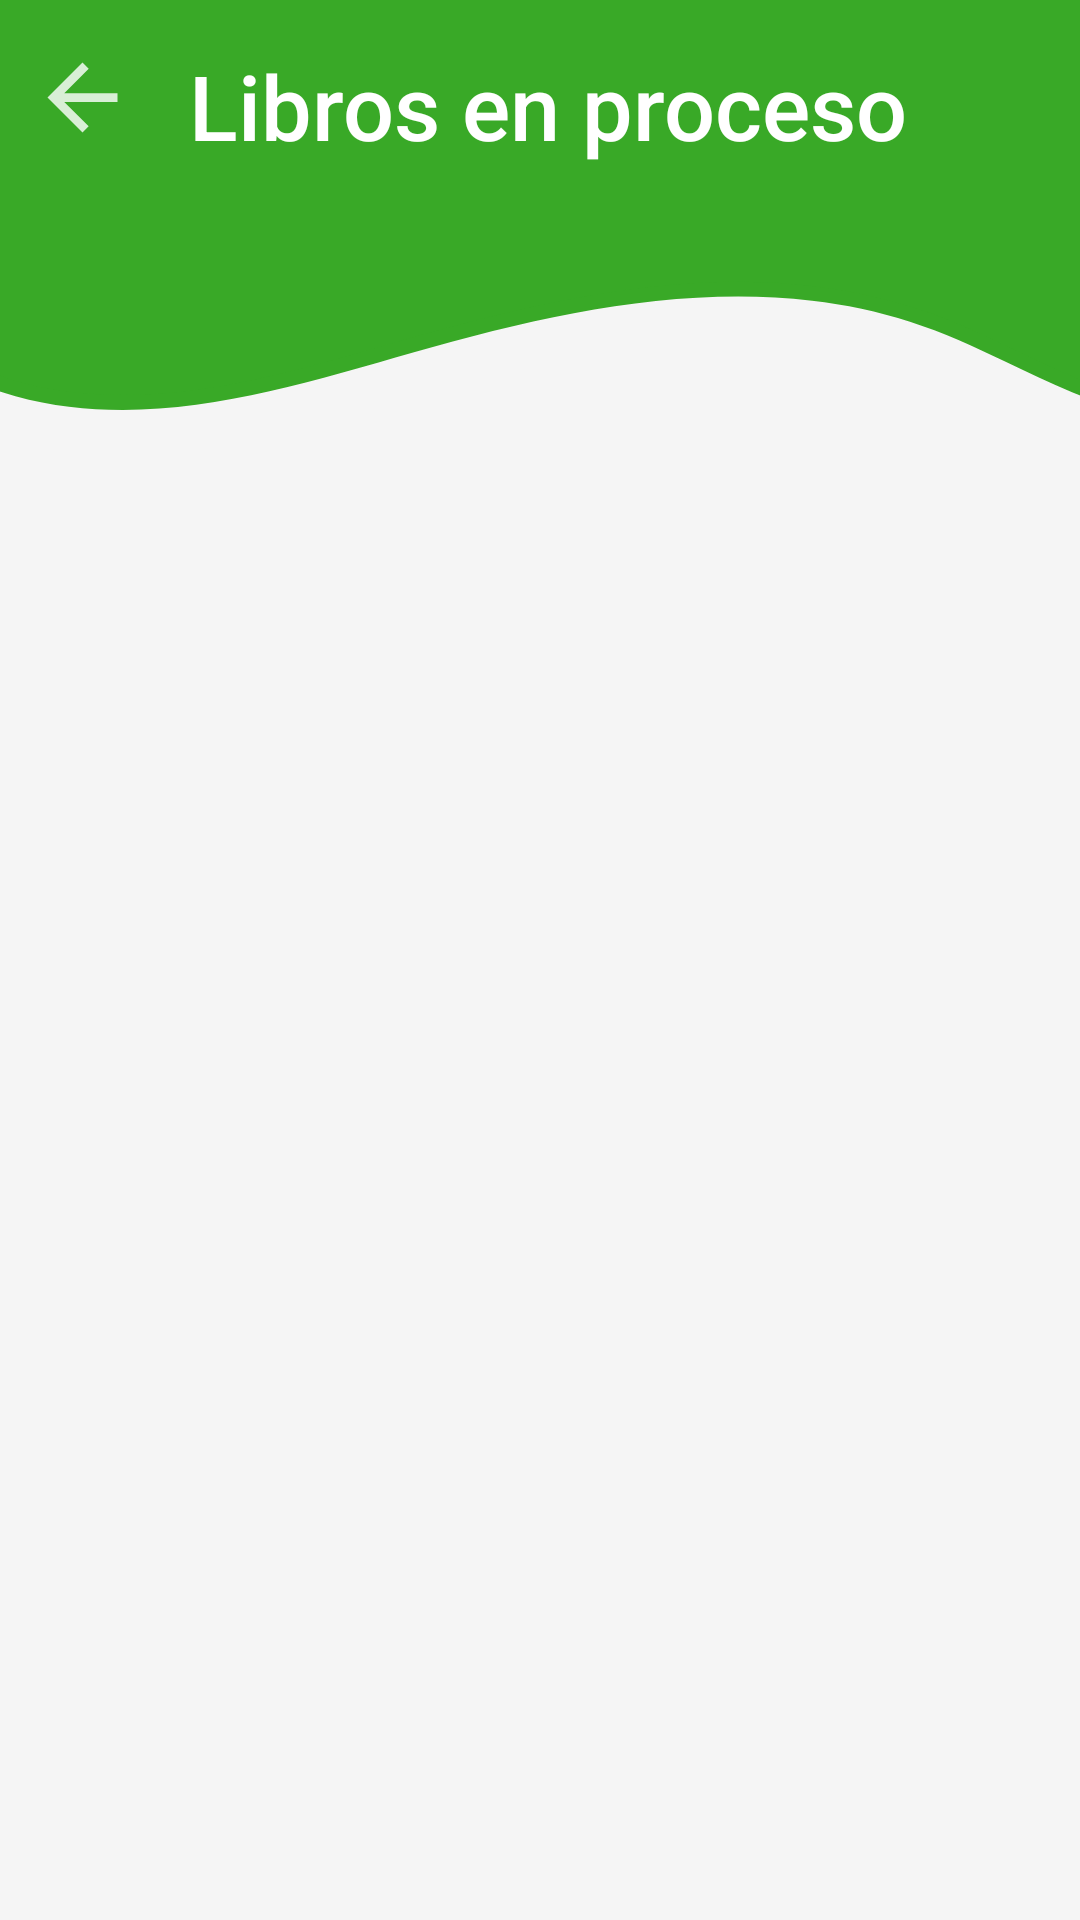

Named icons in this screenshot (1080px x 1920px) and their centers, (x,y):
arrow back: (82,97)
